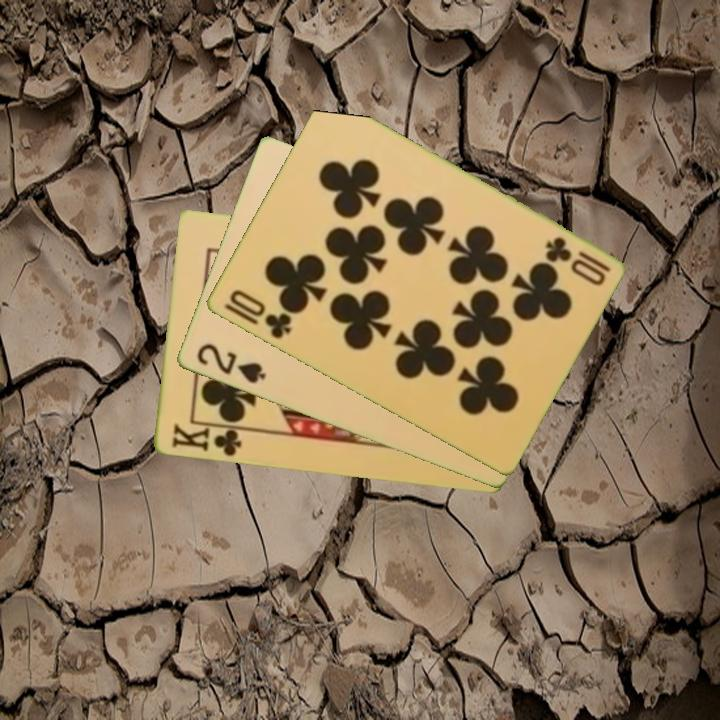10c: (225, 286, 294, 342), (540, 233, 613, 276)
2s: (192, 340, 269, 387)
Kc: (168, 420, 249, 459)
